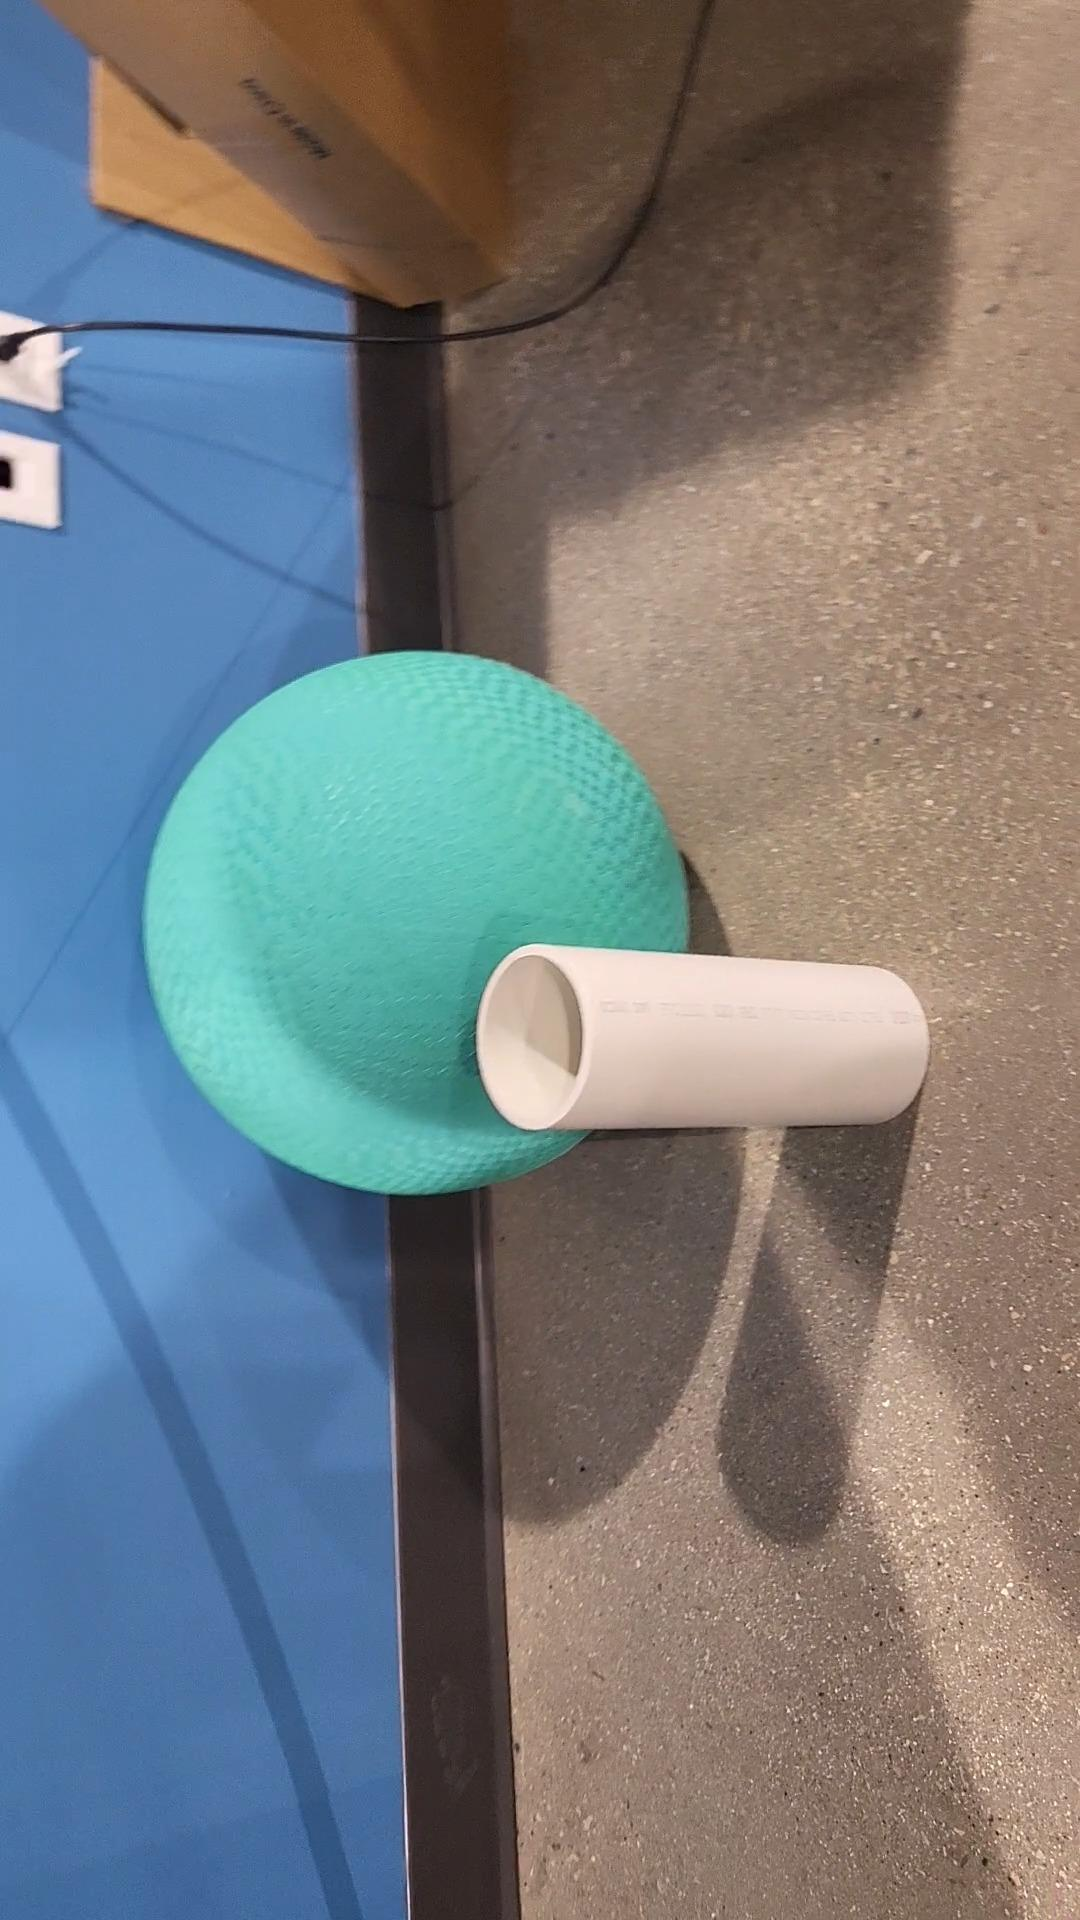algae: (148, 655, 684, 1189)
coral: (475, 943, 927, 1127)
